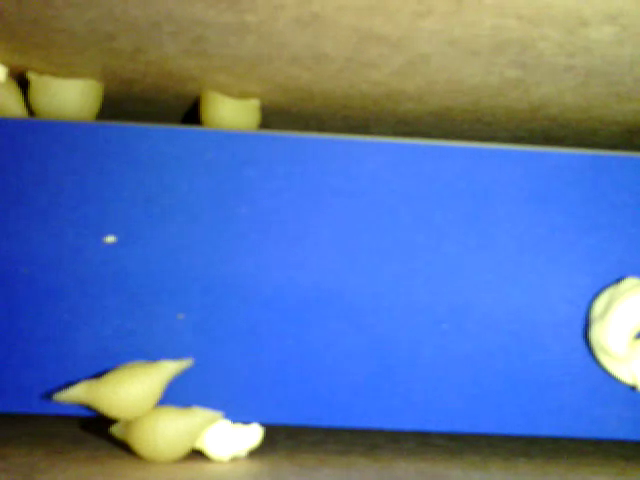shell: (51, 359, 191, 420), (108, 406, 221, 461), (27, 70, 104, 120), (199, 89, 262, 130)
tortellini: (584, 275, 639, 389)
